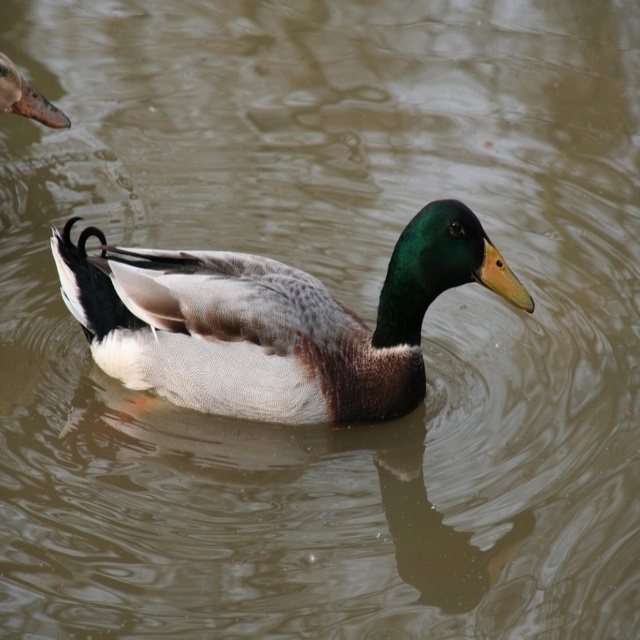Duck: (48, 198, 535, 426), (0, 51, 71, 128)
